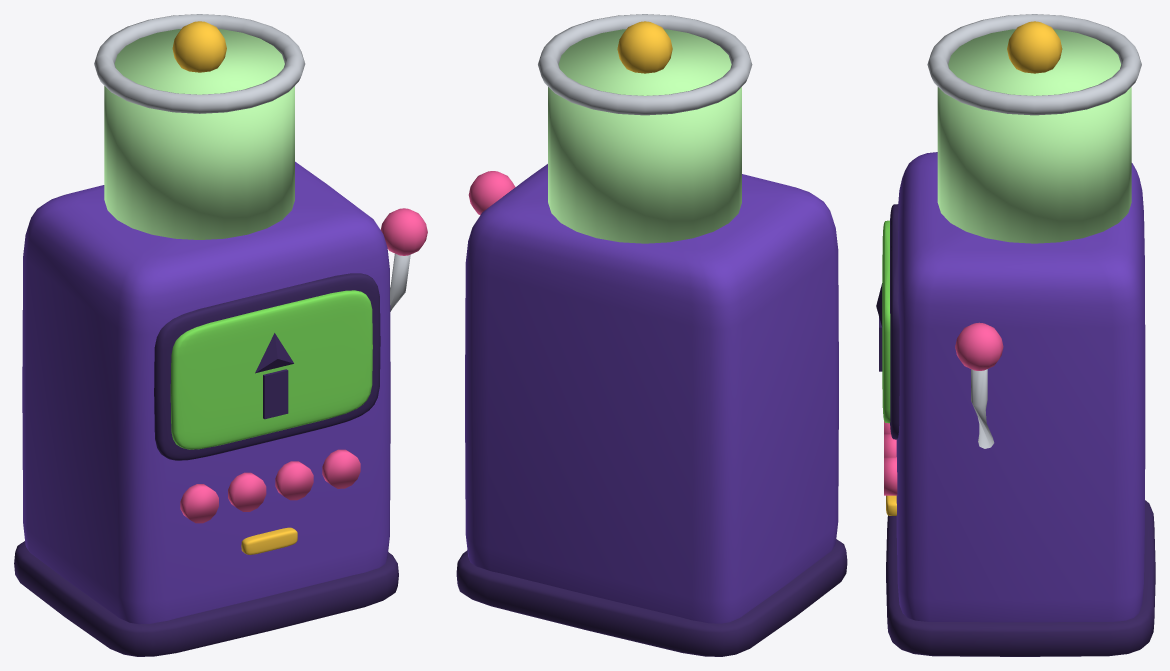
The model's file is P_SlopOMatic.fbx.
3 renders of one model, left to right at view 1: azimuth 30°, elevation 25°; view 2: azimuth 150°, elevation 25°; view 3: azimuth 270°, elevation 25°, orthographic.
Parts seen in each view (by area): view 1: P_SlopOMatic__Body, P_SlopOMatic__Glass, P_SlopOMatic__BodyDark, P_SlopOMatic__Screen, P_SlopOMatic__Metal, P_SlopOMatic__Button, P_SlopOMatic__Gold; view 2: P_SlopOMatic__Body, P_SlopOMatic__Glass, P_SlopOMatic__BodyDark, P_SlopOMatic__Metal, P_SlopOMatic__Gold, P_SlopOMatic__Button; view 3: P_SlopOMatic__Body, P_SlopOMatic__Glass, P_SlopOMatic__BodyDark, P_SlopOMatic__Metal, P_SlopOMatic__Button, P_SlopOMatic__Gold, P_SlopOMatic__Screen.
Part boxes in pixels (x1,y1,x2,y2): P_SlopOMatic__Body: (22, 161, 390, 624); P_SlopOMatic__Glass: (104, 29, 294, 239); P_SlopOMatic__BodyDark: (14, 273, 398, 656); P_SlopOMatic__Screen: (170, 290, 372, 449); P_SlopOMatic__Metal: (94, 14, 410, 311); P_SlopOMatic__Button: (180, 208, 427, 523); P_SlopOMatic__Gold: (172, 21, 297, 554); P_SlopOMatic__Body: (465, 164, 838, 623); P_SlopOMatic__Glass: (548, 29, 741, 243); P_SlopOMatic__BodyDark: (456, 539, 847, 656); P_SlopOMatic__Metal: (538, 14, 752, 115); P_SlopOMatic__Gold: (617, 21, 672, 73); P_SlopOMatic__Button: (468, 171, 515, 214); P_SlopOMatic__Body: (896, 152, 1145, 622); P_SlopOMatic__Glass: (937, 29, 1131, 243); P_SlopOMatic__BodyDark: (876, 204, 1155, 656); P_SlopOMatic__Metal: (927, 14, 1141, 448); P_SlopOMatic__Button: (884, 322, 1003, 495); P_SlopOMatic__Gold: (886, 21, 1062, 515); P_SlopOMatic__Screen: (882, 220, 890, 423).
Bounding box in the file's own units: 5.8 × 9.05 × 4.04.
